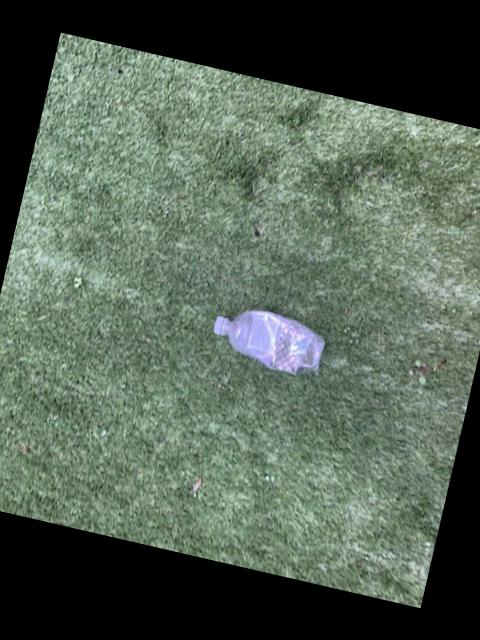plastic: (211, 308, 322, 372)
